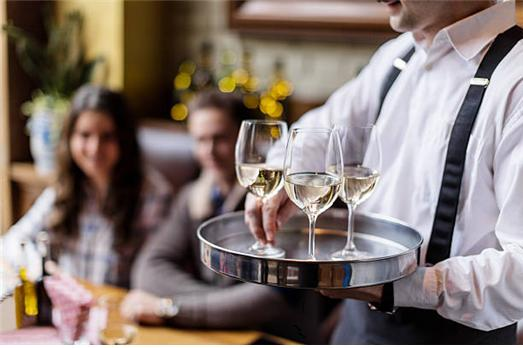alcohol: (285, 126, 342, 261), (236, 118, 288, 258), (328, 123, 378, 262), (12, 237, 44, 326), (98, 292, 136, 343)
